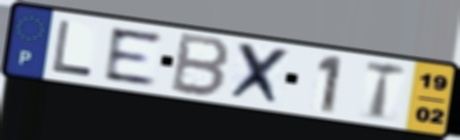1: (315, 54, 346, 116)
B: (167, 30, 234, 100)
E: (102, 25, 164, 87)
L: (50, 18, 96, 79)
T: (363, 59, 409, 123)
X: (225, 40, 294, 109)
